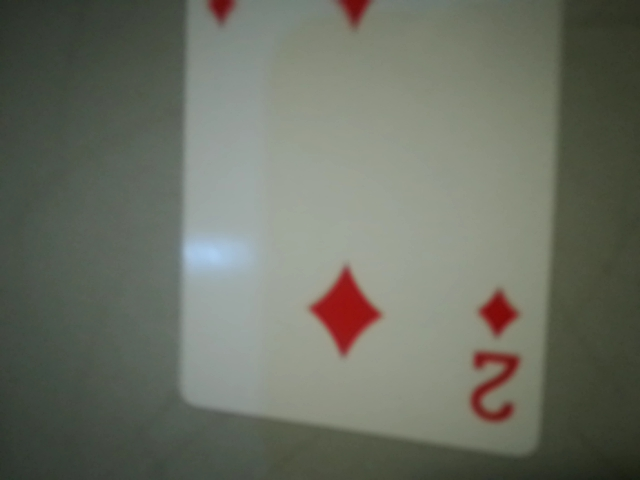fk 2: (450, 270, 543, 445)
